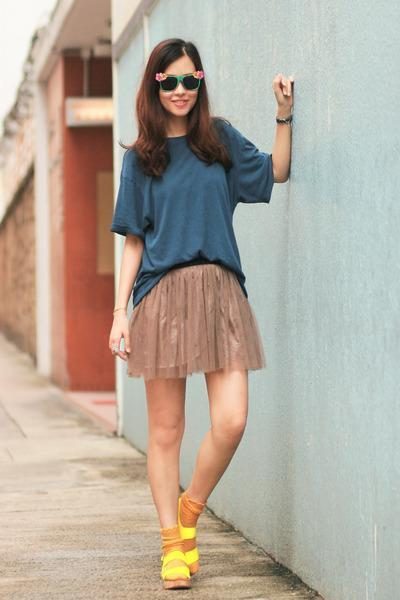shirt: (111, 113, 273, 299)
shoe: (161, 550, 197, 578)
skirt: (116, 264, 264, 395)
sunglass: (180, 60, 207, 98)
